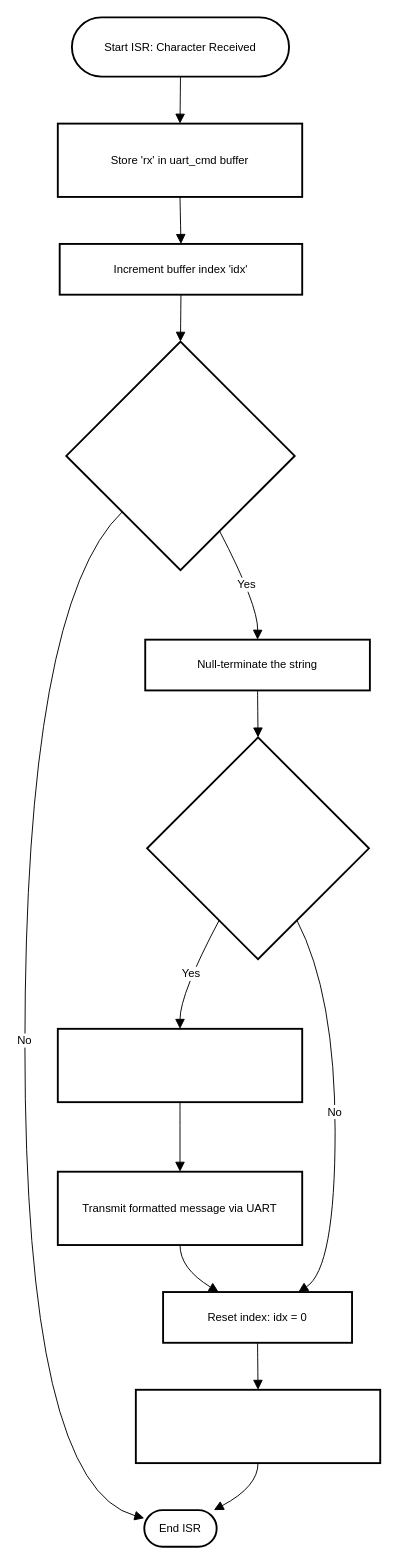
Some shapes in this 397 by 1563 pixel diagram are drawn without their labels. Here are the shapes that lost their labels. From the top down, the centre of each, then its label:
point (180, 455): Is character a newline '\ '?
point (257, 848): Does string contain 'Stat'?
point (179, 1065): Format message using snprintf with live variables
point (257, 1426): Re-arm interrupt: HAL_UART_Receive_IT
